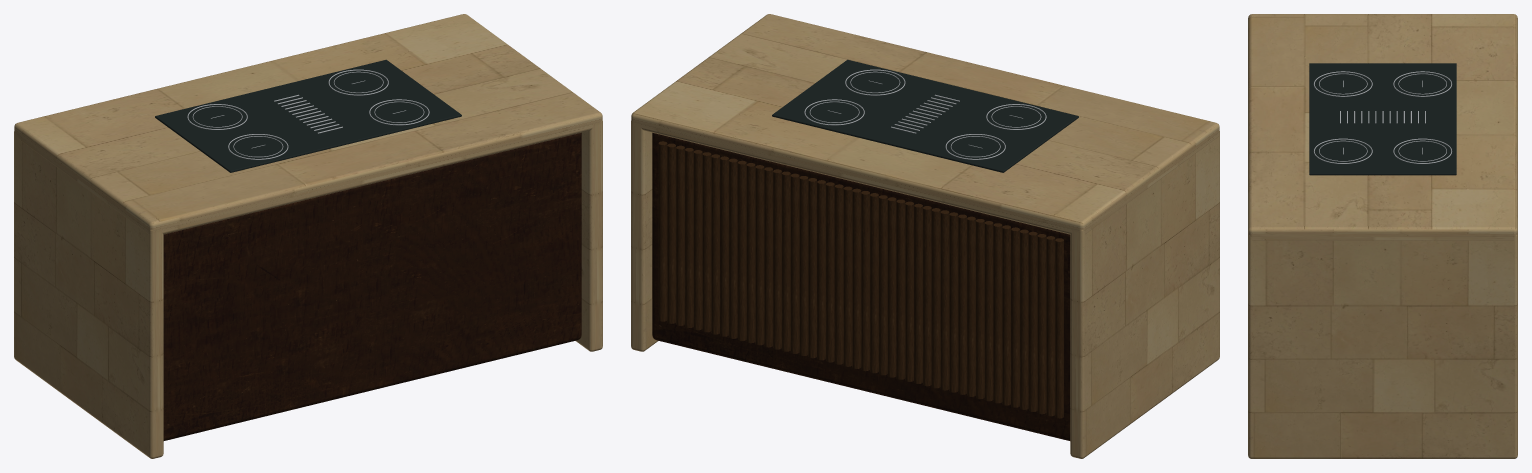
The model's file is luxury-downdraft-island.glb.
The picture shows the model from 3 angles, left to right: view 1: azimuth 30°, elevation 25°; view 2: azimuth 150°, elevation 25°; view 3: azimuth 270°, elevation 25°; orthographic projection. The views are drawn at different scales.
Parts seen in each view (by area): view 1: stone_47, walnut_0, dark_50, steel_51; view 2: stone_47, oak_1, dark_50, walnut_0, steel_51; view 3: stone_47, dark_50, steel_51.
Part boxes in pixels (x1,y1,x2,y2): stone_47: (14,14,602,458); walnut_0: (163,133,581,440); dark_50: (155,59,461,172); steel_51: (187,69,429,159); stone_47: (631,14,1219,458); oak_1: (658,141,1063,418); dark_50: (772,59,1078,172); walnut_0: (652,133,1070,440); steel_51: (804,69,1046,159); stone_47: (1248,14,1517,458); dark_50: (1309,63,1456,175); steel_51: (1313,71,1452,163).
Size of the model in its own units: 1.8 by 0.9146 by 0.95.
5 materials, 3 textured.
